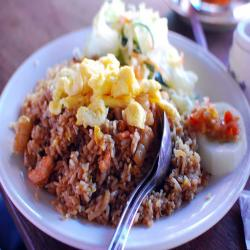rice: (30, 124, 198, 224)
